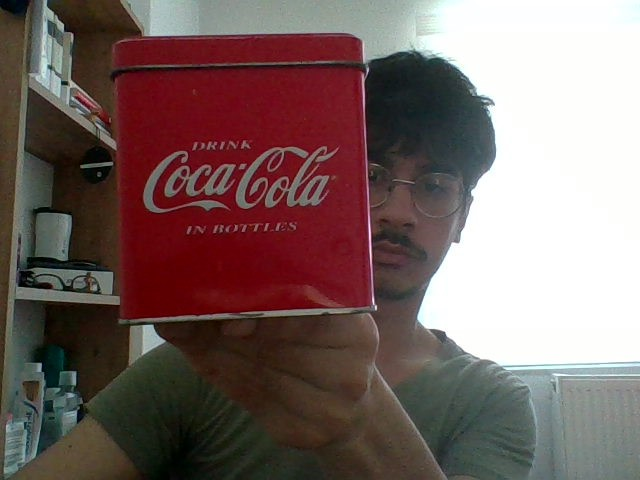CocaColaBox: (109, 36, 376, 303)
